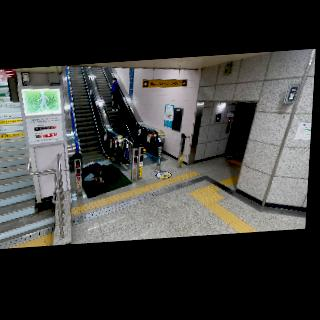anomaly: (77, 159, 112, 187)
normal: (114, 100, 131, 136), (108, 77, 122, 111)
